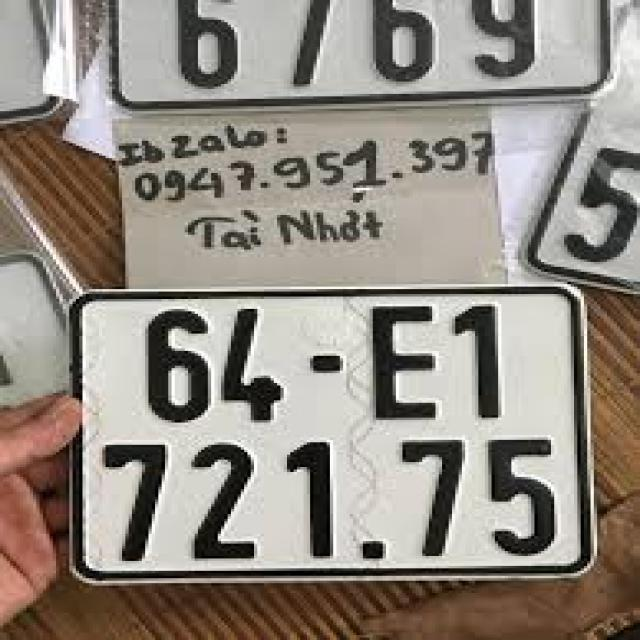1: (280, 437, 344, 561), (448, 302, 514, 421)
2: (185, 440, 264, 561)
4: (214, 304, 287, 425), (188, 163, 228, 200)
5: (557, 141, 640, 267), (482, 432, 560, 558)
6: (138, 306, 214, 422)
7: (96, 439, 172, 564), (396, 434, 468, 558)
E: (360, 302, 446, 421)
